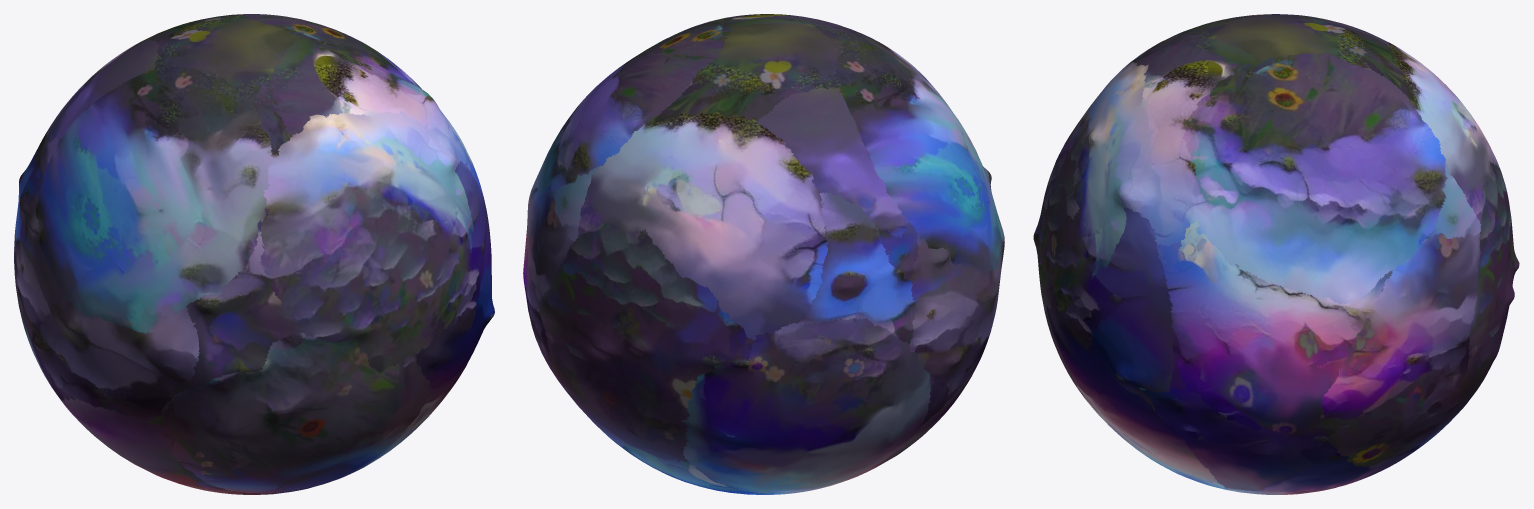
Rendered from sanctuary-planet-mobile.glb.
The picture shows the model from 3 angles, left to right: view 1: azimuth 30°, elevation 25°; view 2: azimuth 150°, elevation 25°; view 3: azimuth 270°, elevation 25°; orthographic projection.
Visible parts, largest first — view 1: node_0; view 2: node_0; view 3: node_0.
Part boxes in pixels (box(x1,y1,x2,y2)): node_0: box(14, 14, 494, 494); node_0: box(523, 14, 1004, 494); node_0: box(1033, 14, 1519, 494).
Size of the model in its own units: 1.17 by 1.15 by 1.16.
1 material, 1 textured.
